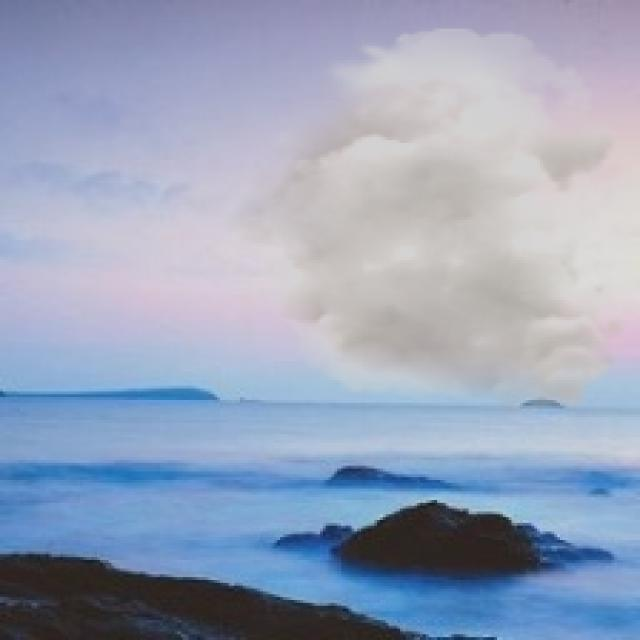smoke: (212, 26, 632, 414)
